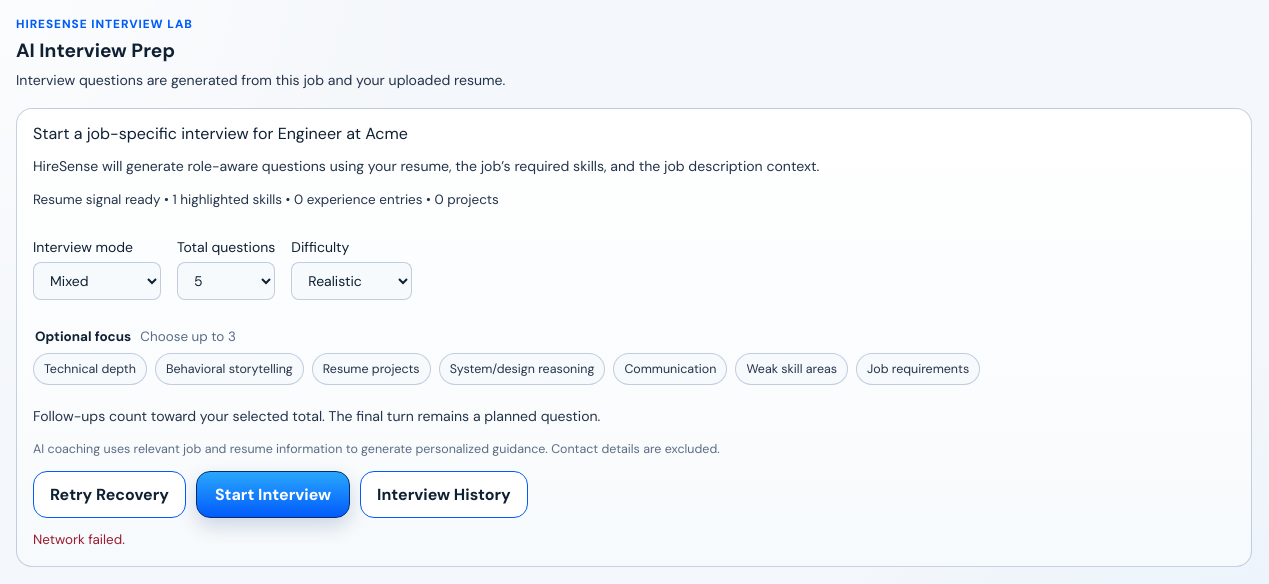
Test case: AIInterviewPanel › keeps a transient recovery failure retryable
Click the button "Retry Recovery" at (109, 494), box 33,471 -> 186,518
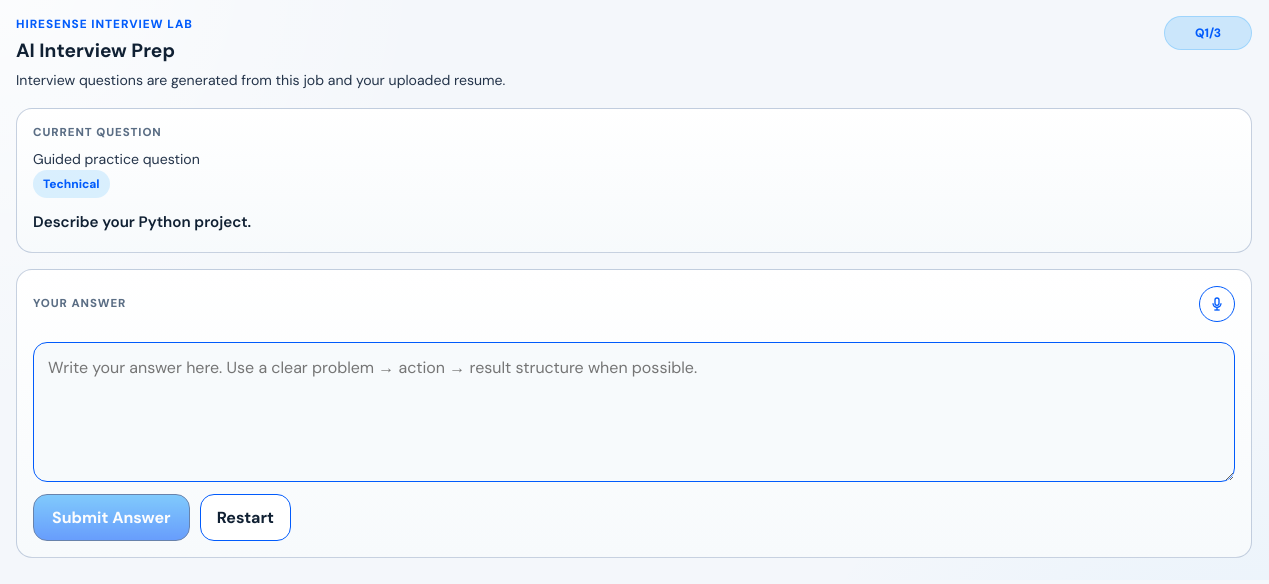
Result: the text "Describe your Python project." is shown at 33,212 -> 251,232
